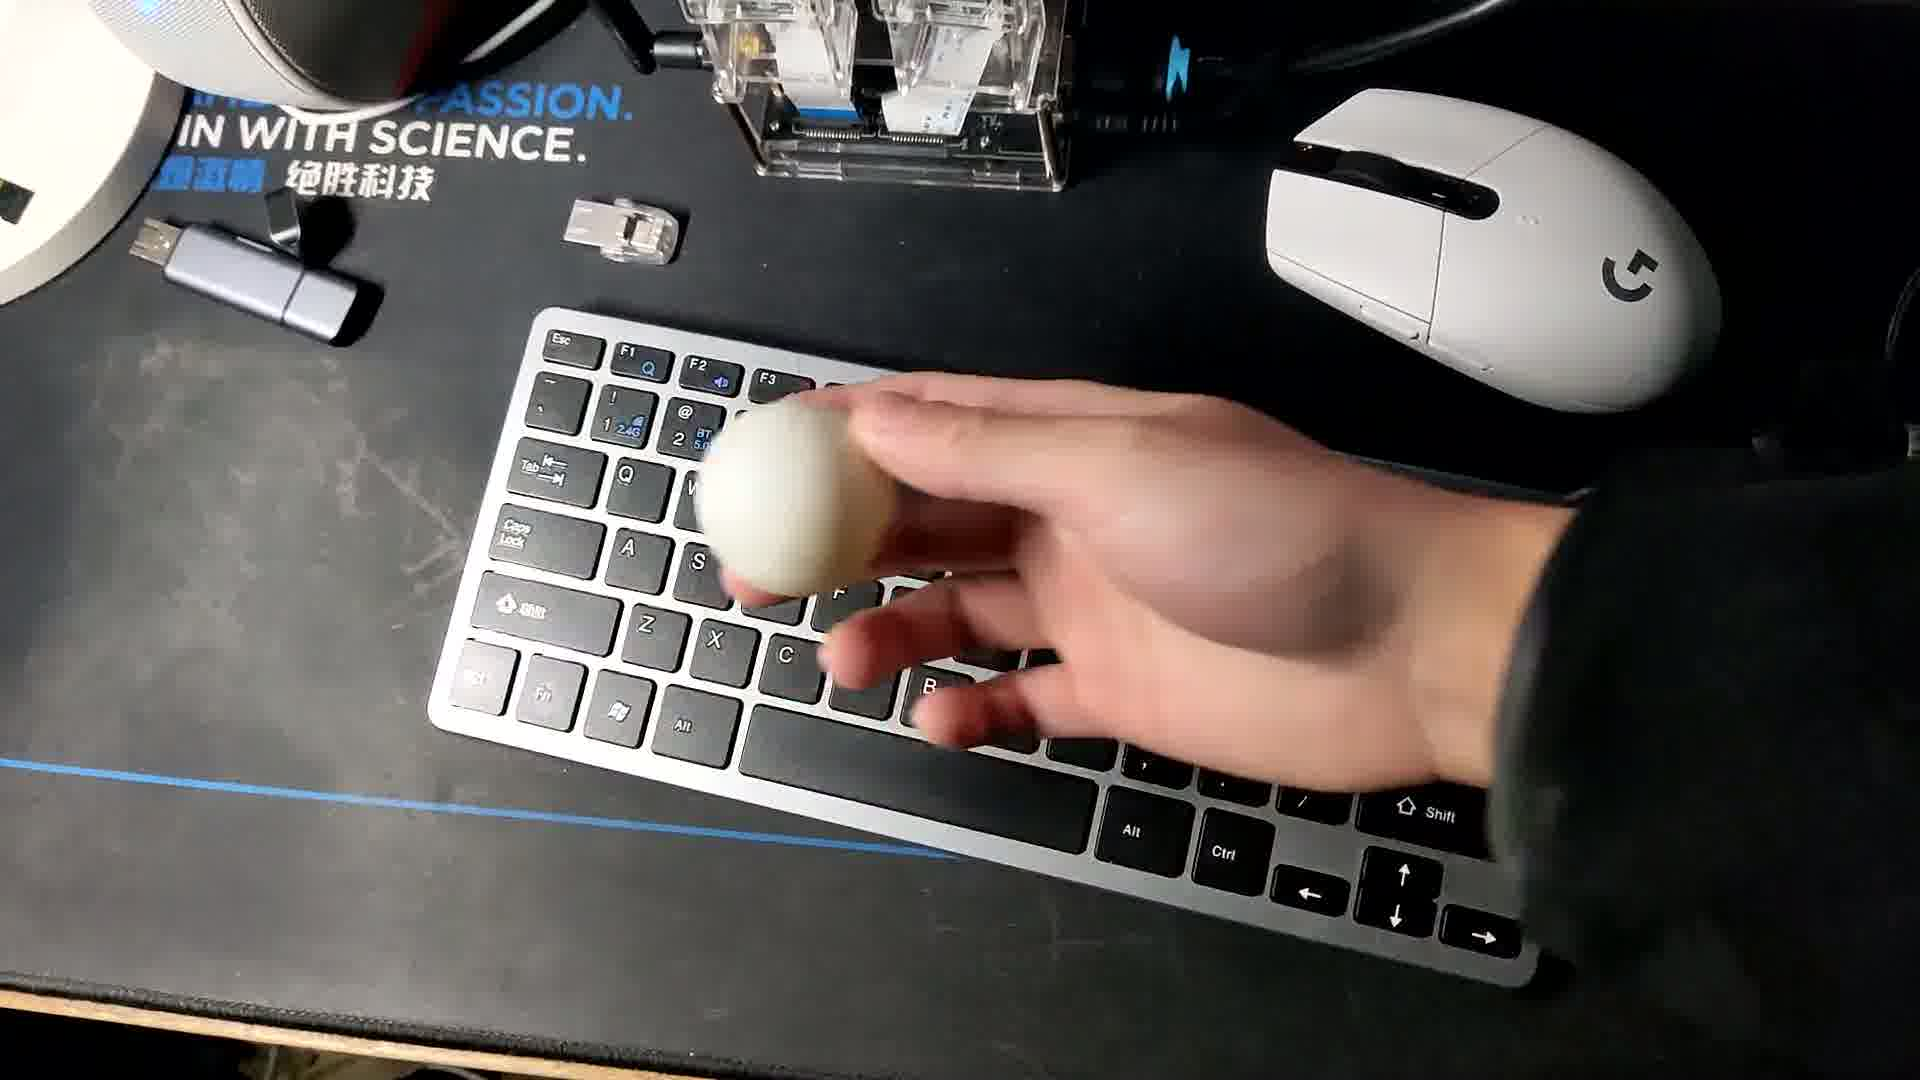Ball: (700, 397, 885, 600)
